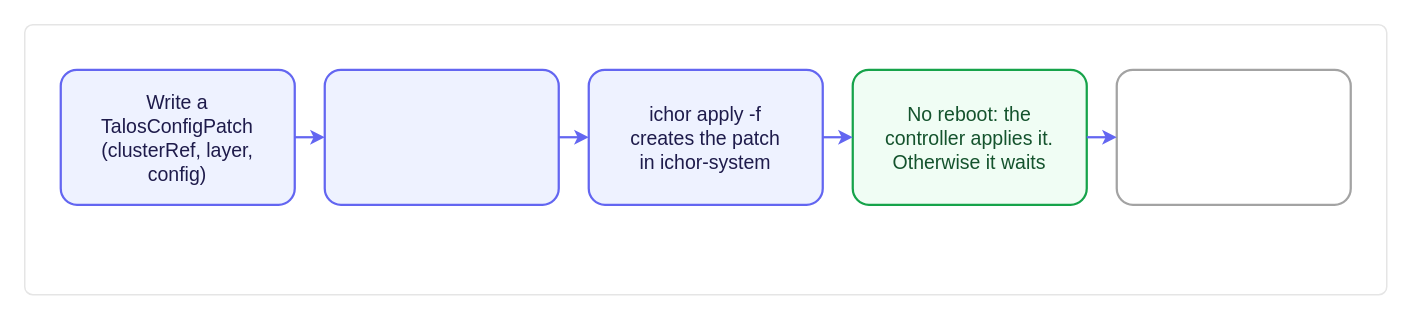
This 1412x320 diagram has some shape labels left out. Each missing label, with the box of its shape:
ichor preview -f shows the impact: reboot or not: (323, 68, 559, 205)
ichor rollout config applies the waiting change node by node: (1115, 68, 1351, 205)
